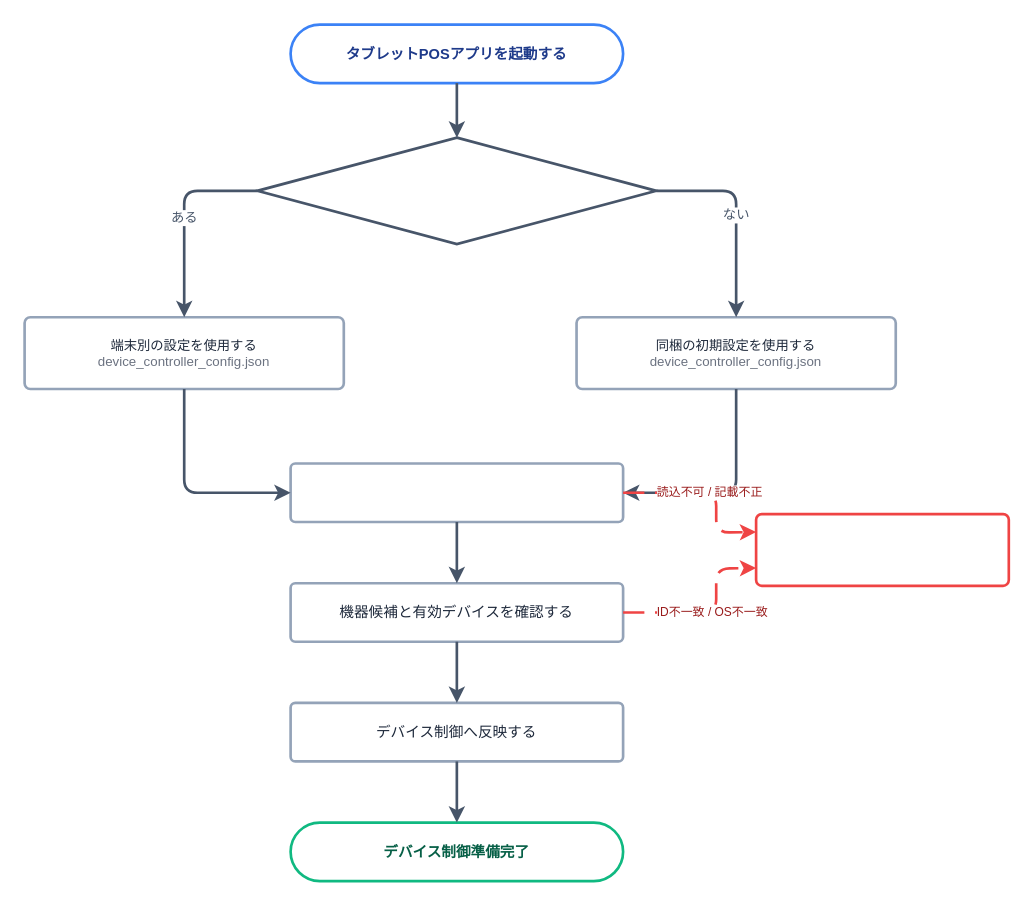
Image size: 1032x904. Some labels were removed from this diagram. Here are the shapes that lost their labels. From the top down, the box of each, then its label:
(255, 136, 657, 245): 端末別の設定ファイルがあるか
(289, 462, 624, 523): 端末側の設定内容を読み取る
(754, 512, 1009, 587): 設定不備を記録する
